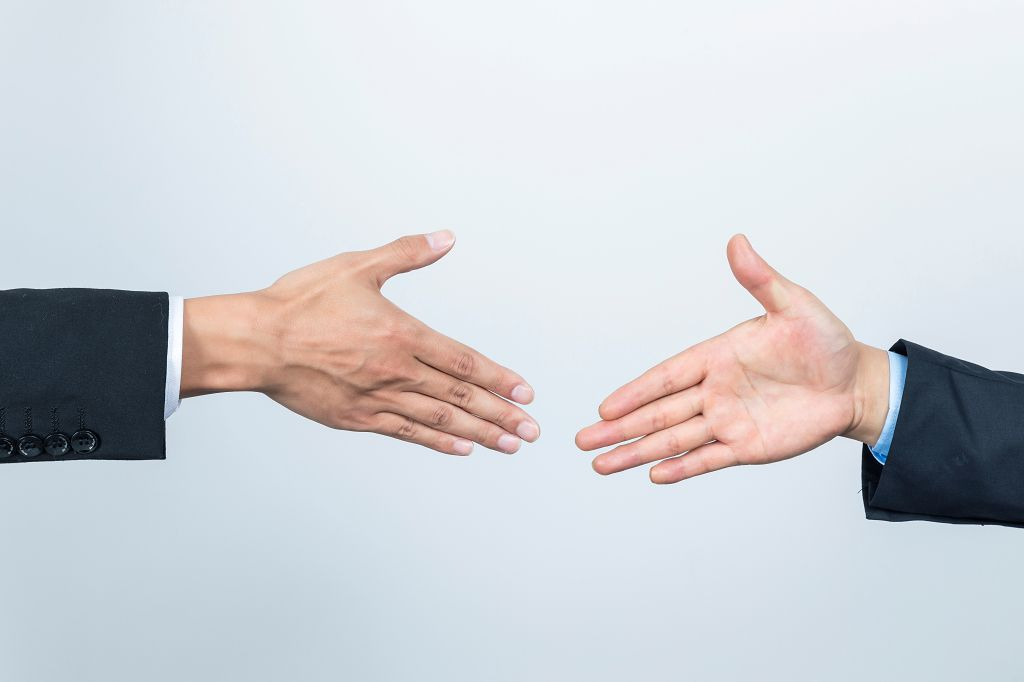no-phone: (574, 229, 864, 488), (249, 226, 549, 462)
